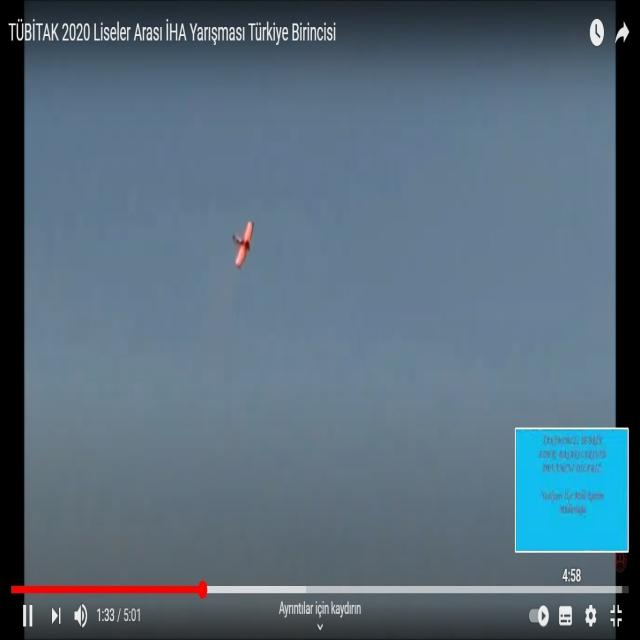iha: (231, 220, 255, 270)
